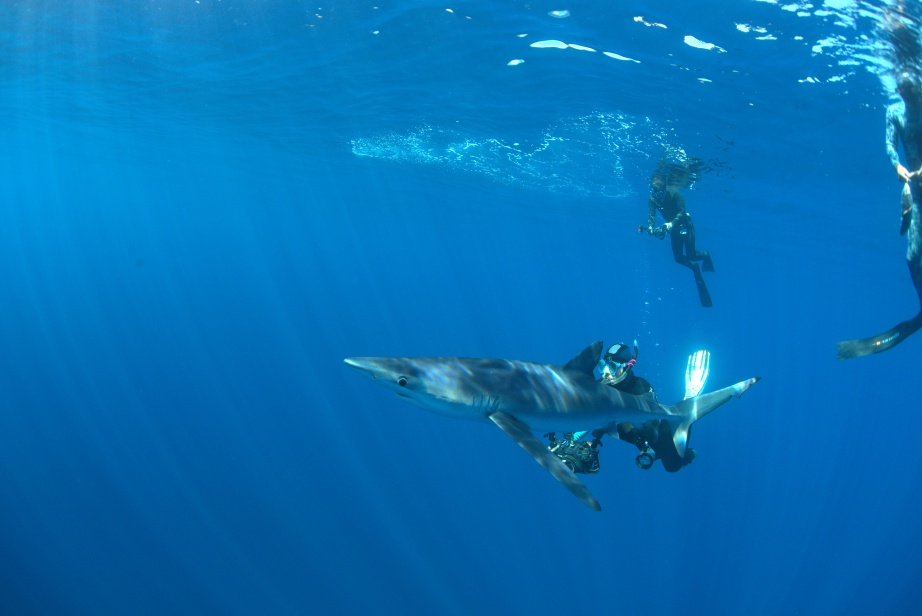Azul: (339, 321, 767, 524)
